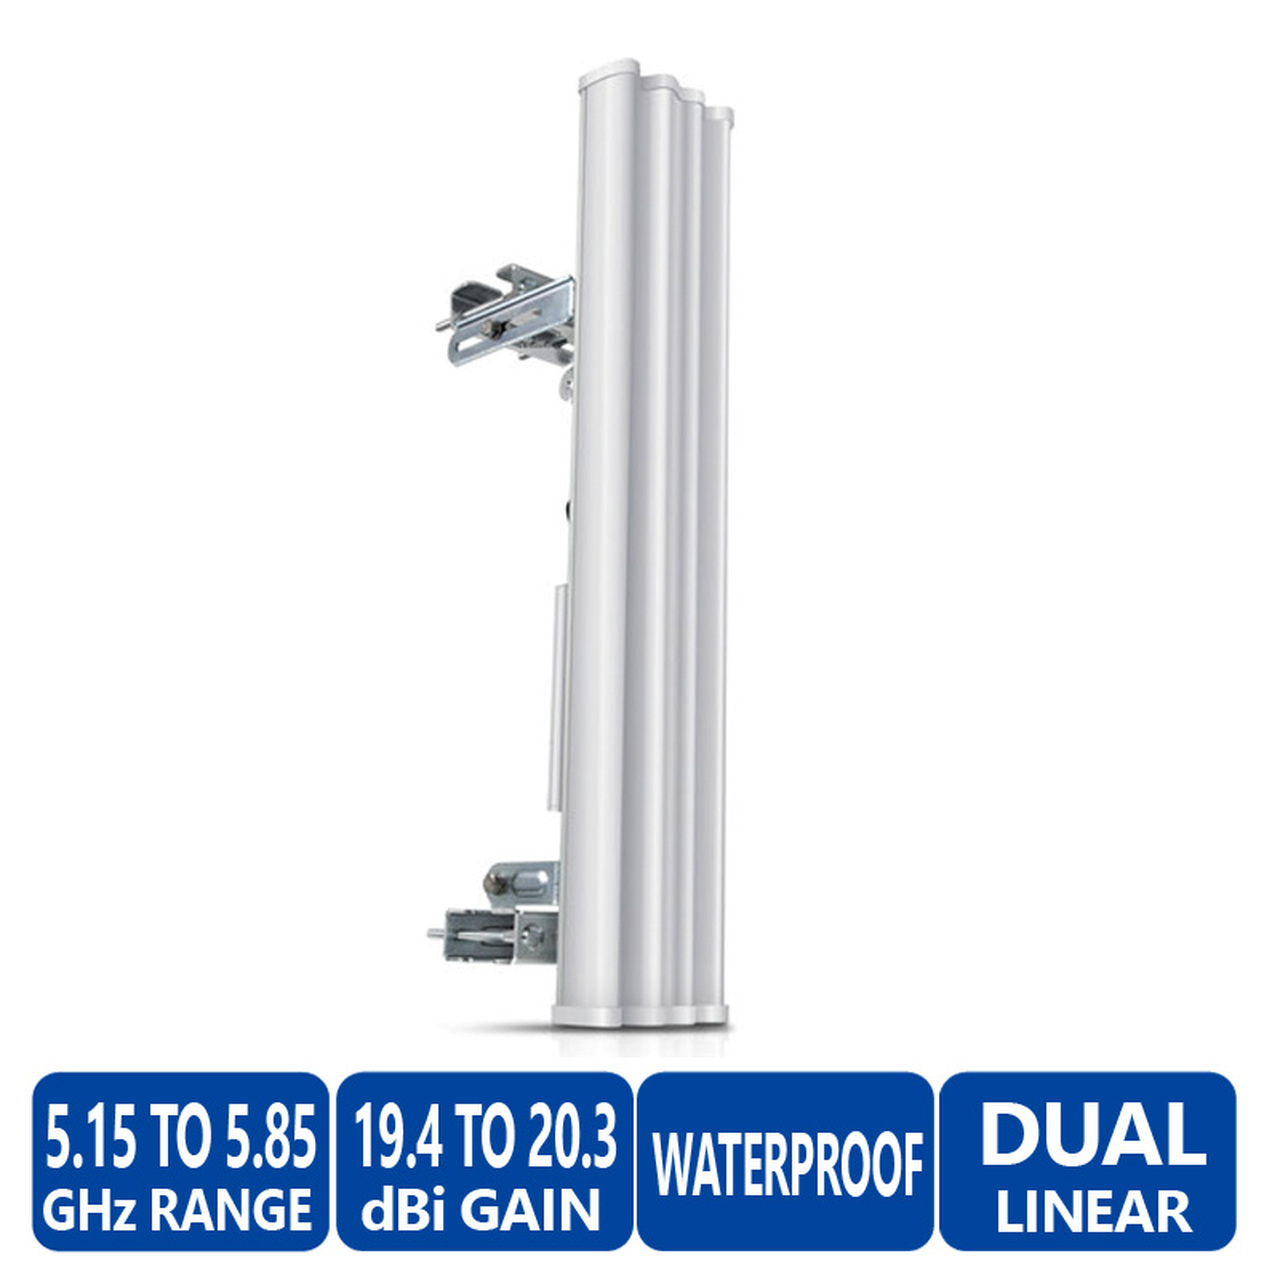sa: (467, 42, 789, 1008)
